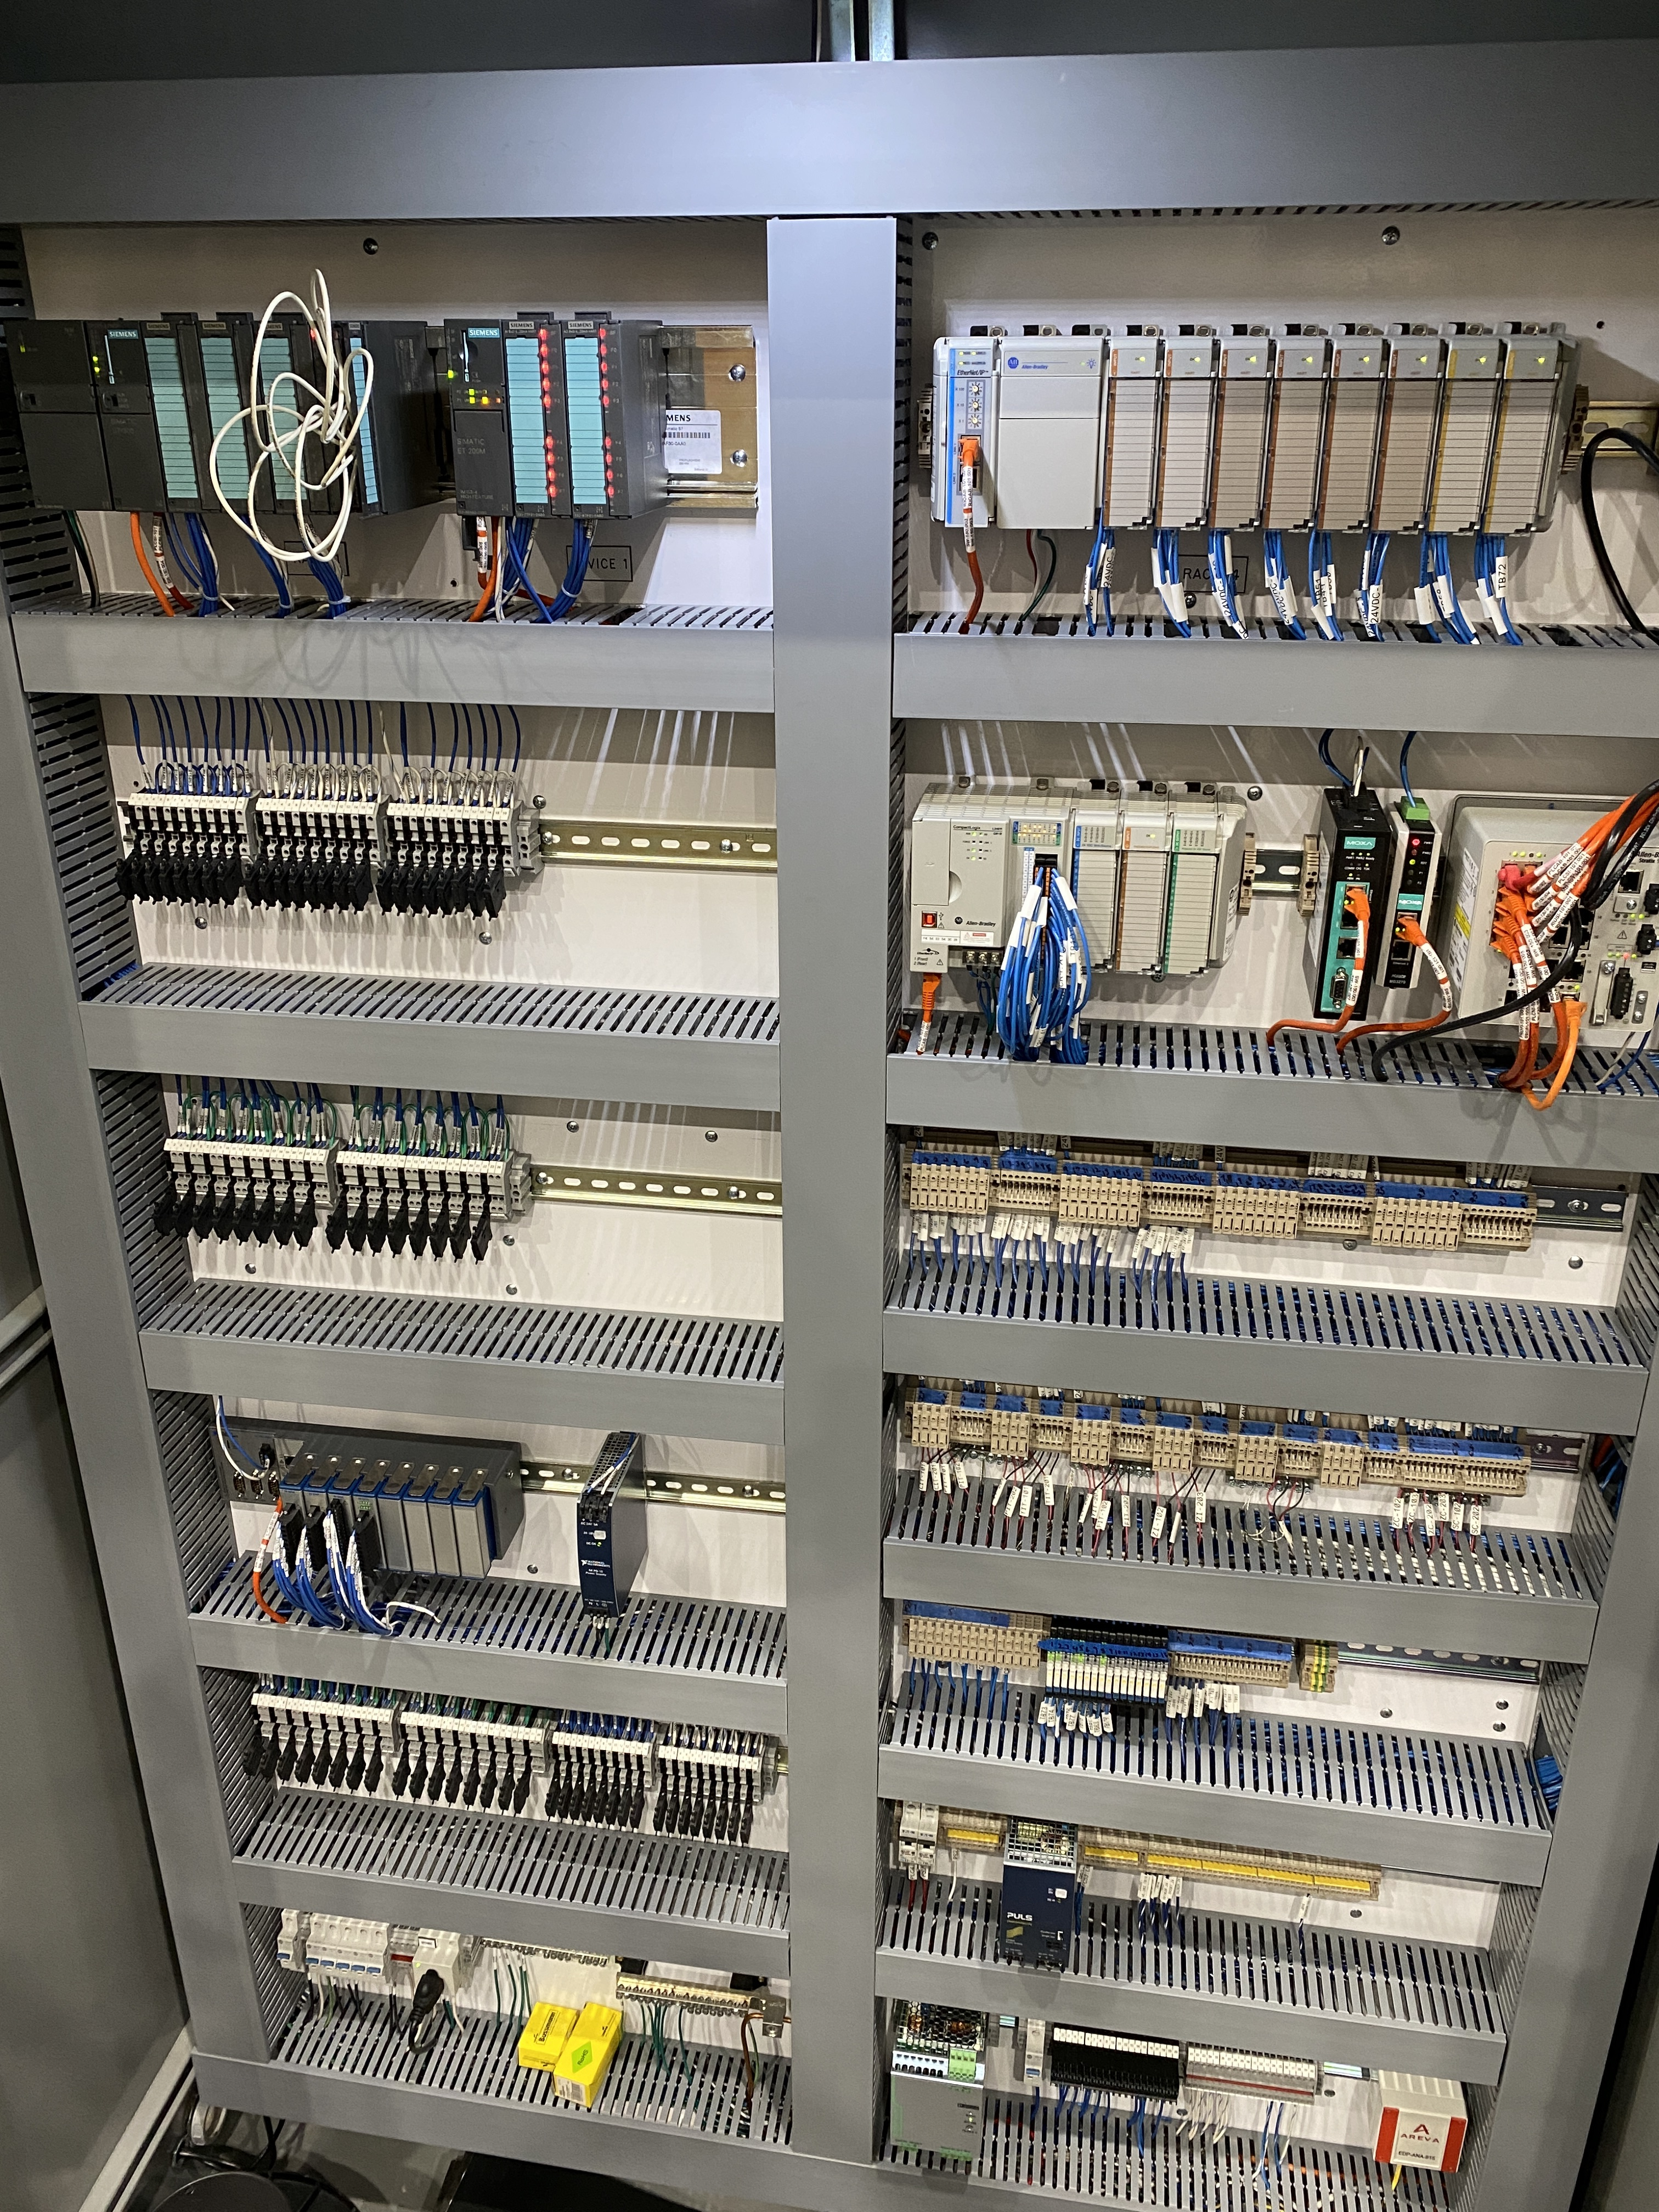AllenBradley: (906, 810, 1007, 979)
Siemens: (84, 314, 167, 523)
